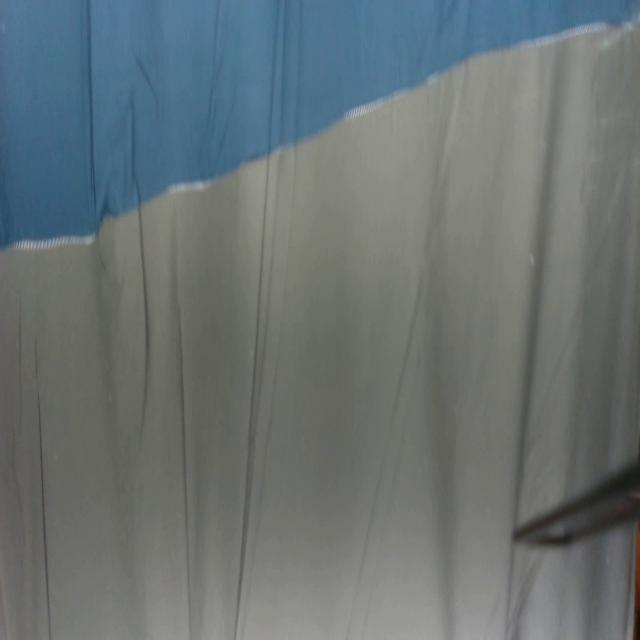crease: (234, 0, 298, 639), (345, 272, 424, 636), (128, 101, 150, 445), (173, 290, 194, 640), (34, 334, 52, 638), (85, 0, 100, 225)
hole: (528, 249, 536, 269)
